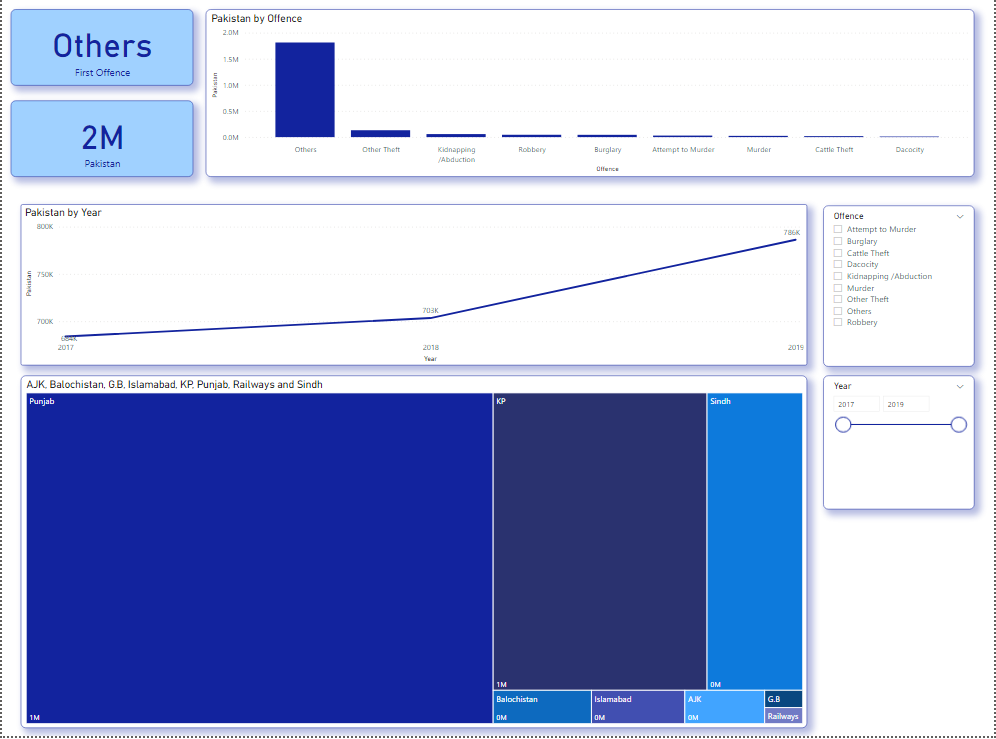

This screenshot's page, from the dashboard's own definition file:
{"tool":"powerbi","page":{"name":"CRIME RATE","canvas":[1600,1200],"ordinal":1},"visuals":[{"type":"columnChart","fields":{"Category":["crime.Offence"],"Y":["Sum(crime.Pakistan)"]},"box":[328.7,26.2,1240.3,270.3],"z":0},{"type":"lineChart","fields":{"Category":["crime.Year"],"Y":["Sum(crime.Pakistan)"]},"box":[30.3,340.8,1268.6,260.2],"z":1000},{"type":"card","fields":{"Values":["Min(crime.Offence)"]},"box":[14.1,26.2,294.5,123],"z":2000},{"type":"treemap","fields":{"Values":["Sum(crime.AJK)","Sum(crime.Balochistan)","Sum(crime.G.B)","Sum(crime.Islamabad)","Sum(crime.KP)","Sum(crime.Punjab)","Sum(crime.Railways)","Sum(crime.Sindh)"]},"box":[30.3,617.1,1268.6,568.7],"z":3000},{"type":"slicer","fields":{"Values":["crime.Offence"]},"box":[1325,342.9,244,260.2],"z":4000},{"type":"card","fields":{"Values":["Sum(crime.Pakistan)"]},"box":[14.1,173.4,294.5,123],"z":5000},{"type":"slicer","fields":{"Values":["crime.Year"]},"box":[1325,617.1,244,215.8],"z":5001}]}

Visuals, with their boxes in screenshot pixels (x1, y1, x2, y2), scaled from the page's 1600x1200 canvas onto the 996x739 screenshot:
columnChart - crime.Offence x Sum(crime.Pakistan): 205 16 977 183
lineChart - crime.Year x Sum(crime.Pakistan): 19 210 809 370
card - Min(crime.Offence): 9 16 192 92
treemap - Sum(crime.AJK) x Sum(crime.Balochistan): 19 380 809 730
slicer - crime.Offence: 825 211 977 371
card - Sum(crime.Pakistan): 9 107 192 183
slicer - crime.Year: 825 380 977 513
